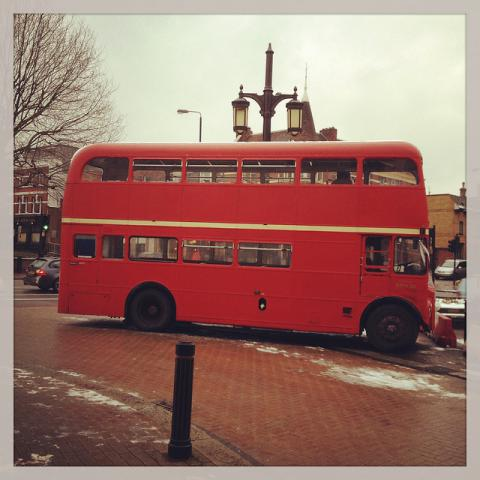bus: (59, 142, 437, 349)
car: (22, 256, 60, 292), (434, 259, 466, 280)
